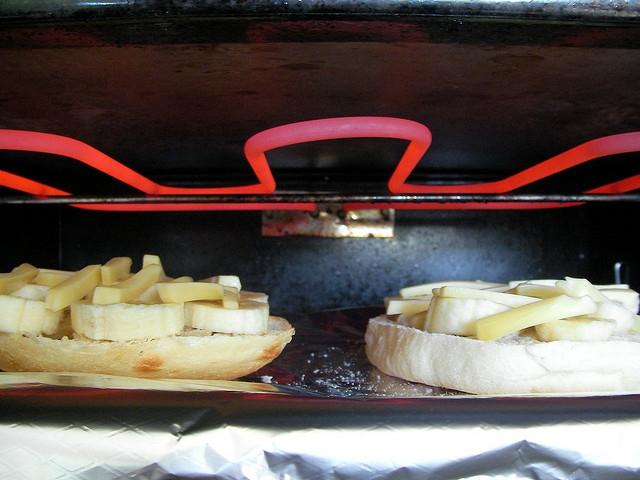banana: (70, 298, 185, 342), (424, 297, 514, 336), (184, 298, 270, 336), (0, 295, 63, 336), (534, 316, 618, 342), (582, 301, 637, 332), (6, 284, 54, 302), (599, 288, 640, 302), (408, 309, 428, 329), (239, 290, 269, 303)
